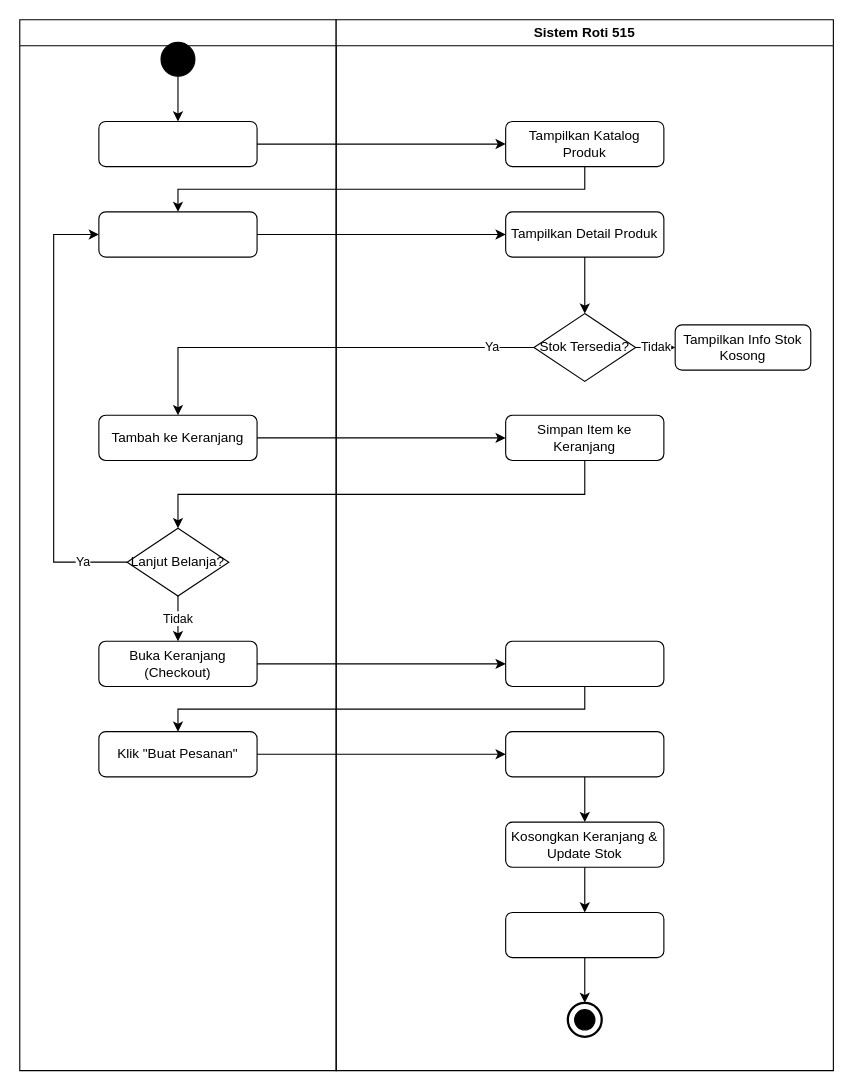
The diagram is 853 pixels wide and 1090 high, and some of its shapes have lost their labels. The box of each missing label's shape, as (x1, y1, x2, y2) in pixels:
Login / Buka Aplikasi: (98, 120, 257, 167)
Pelanggan: (19, 19, 336, 1071)
Pilih Produk Menu: (98, 211, 257, 257)
Simpan Pesanan ke Database: (505, 731, 664, 777)
Tampilkan Ringkasan & Opsi Ambil: (505, 640, 664, 686)
Tampilkan Status Berhasil: (505, 911, 664, 958)
